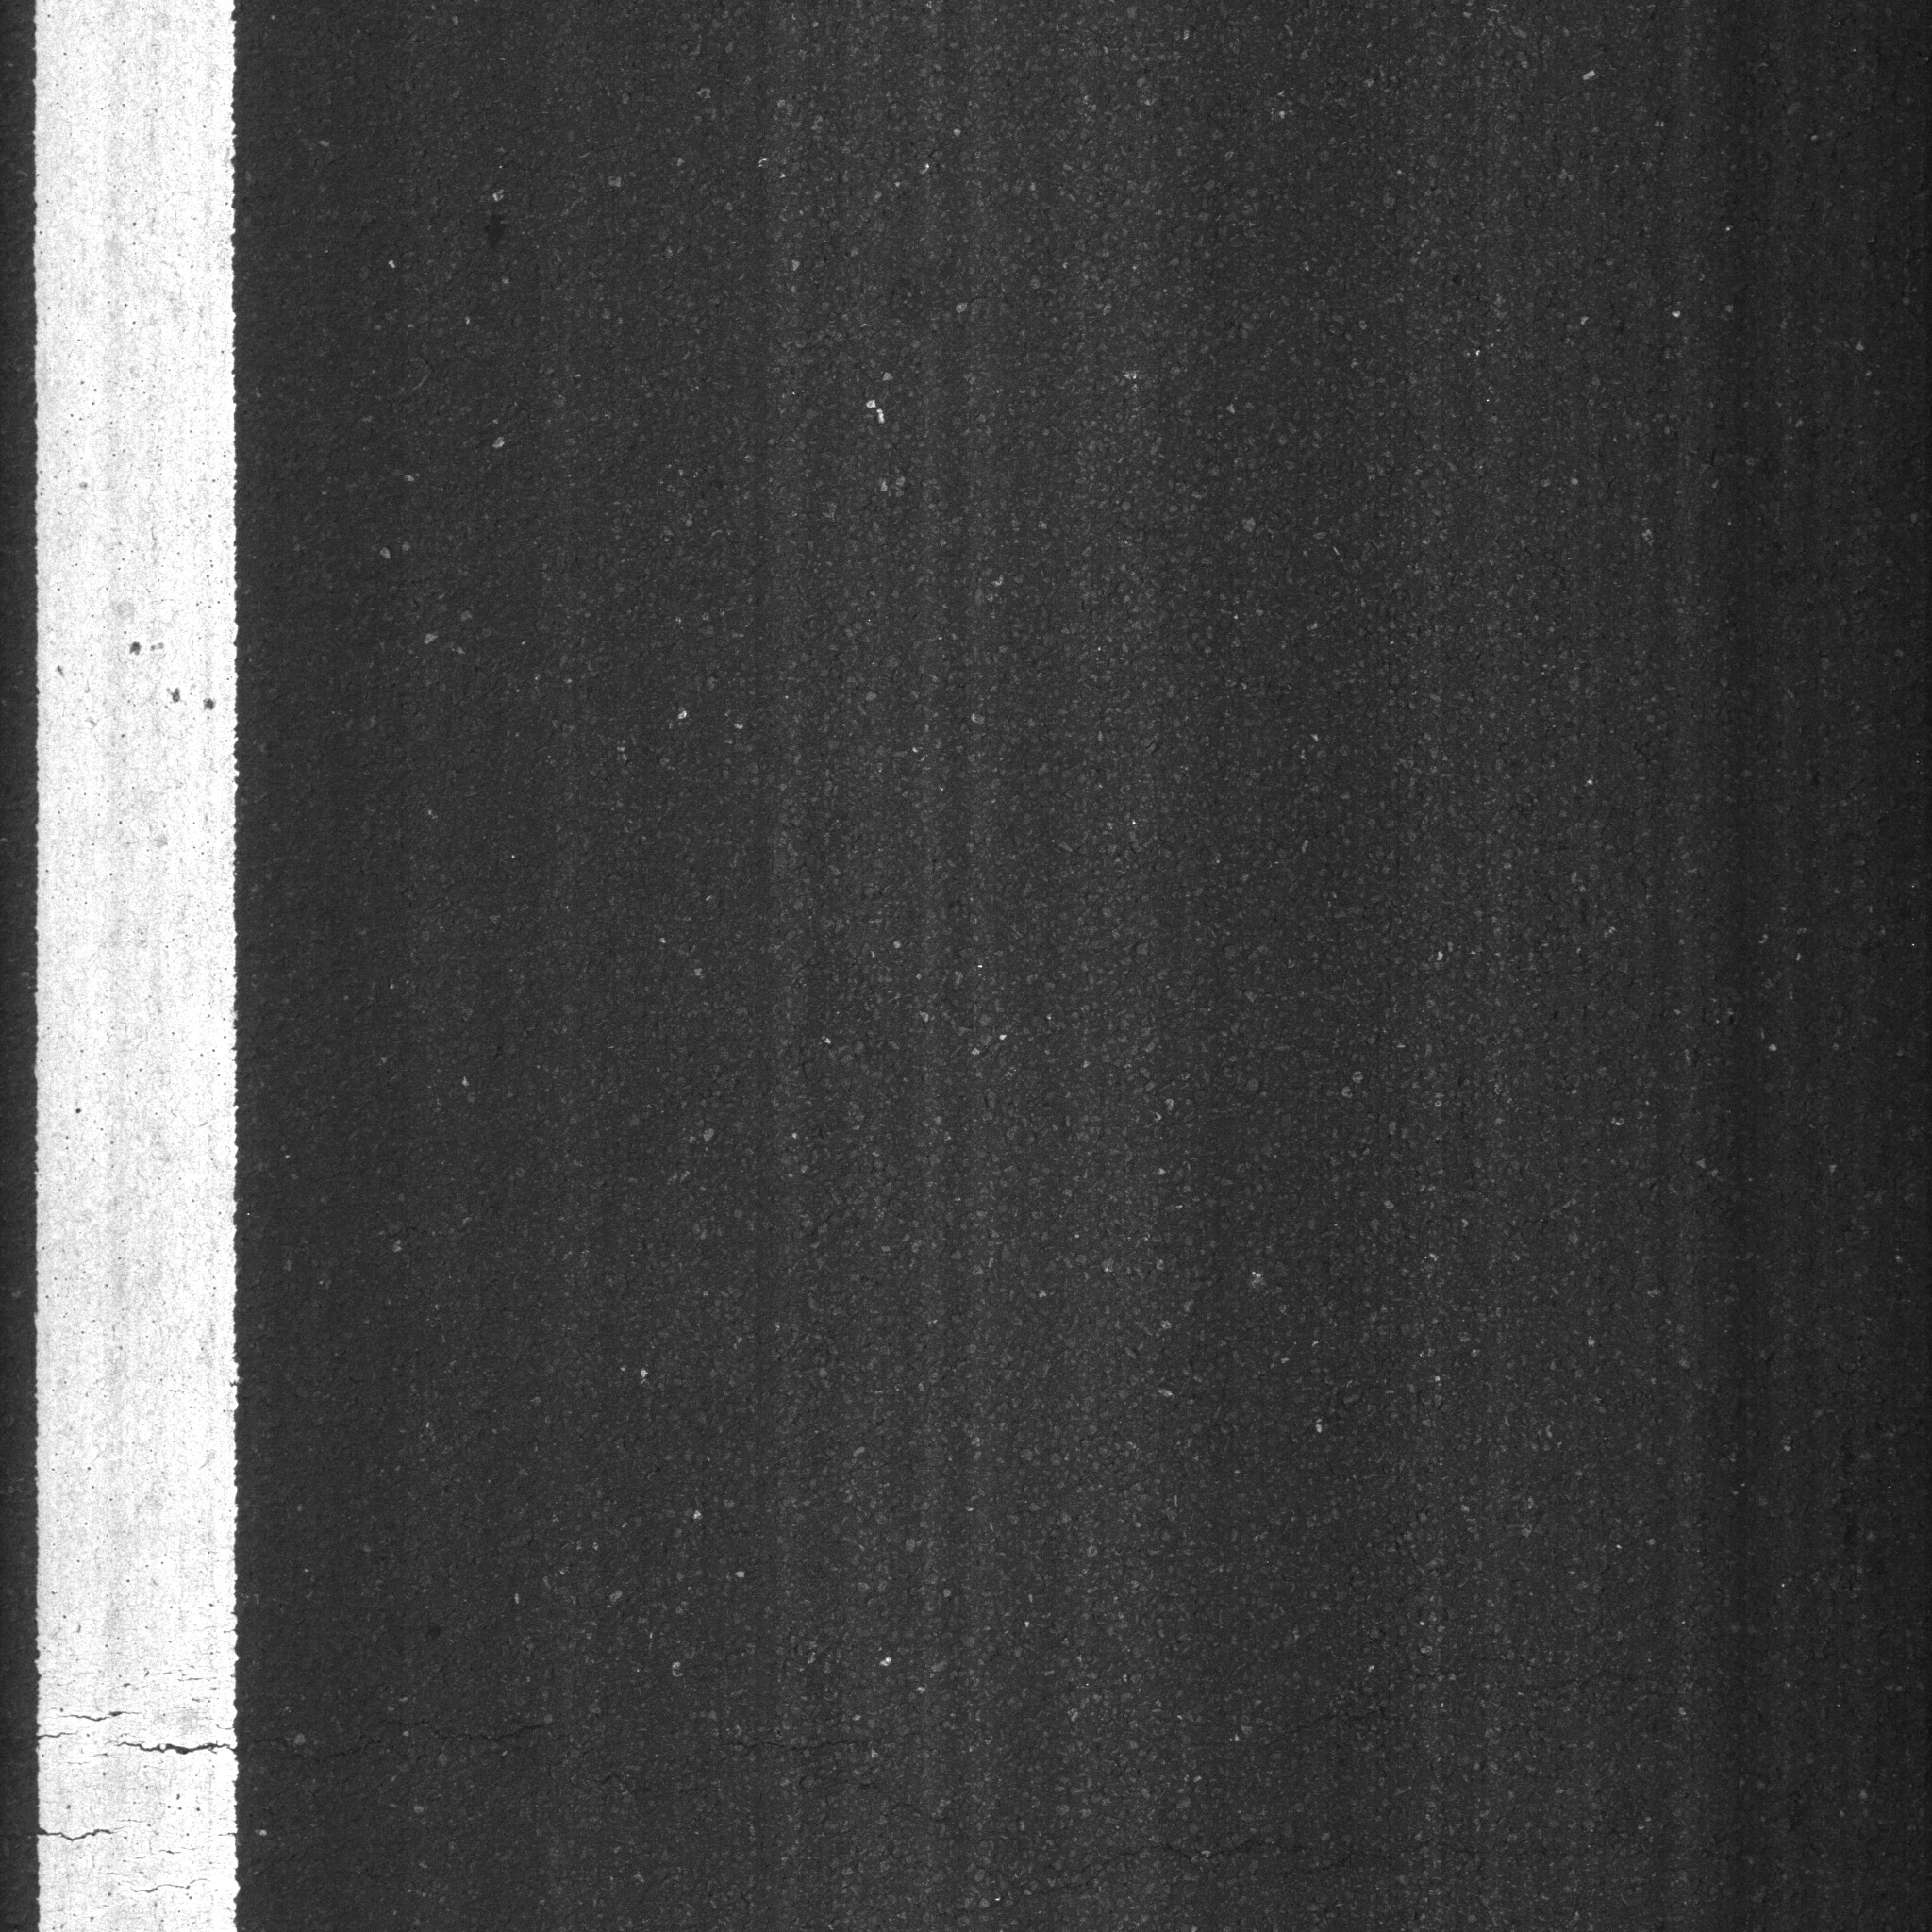transeverse: (23, 1674, 943, 1796)
